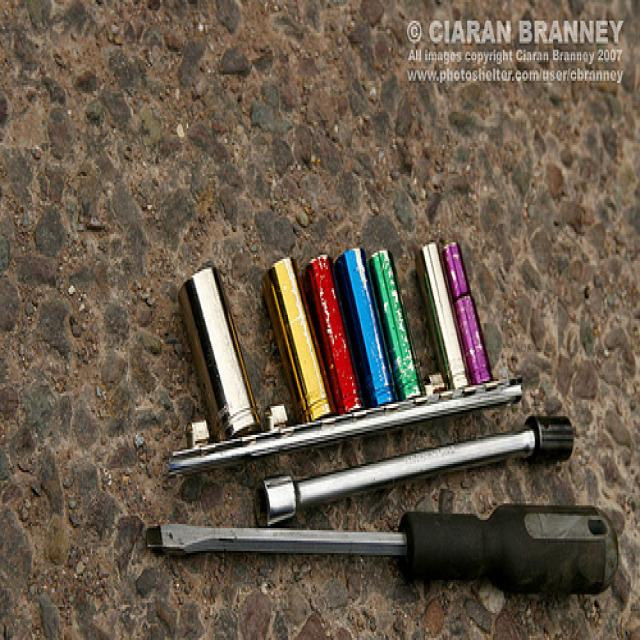screw_driver: (146, 506, 619, 594)
